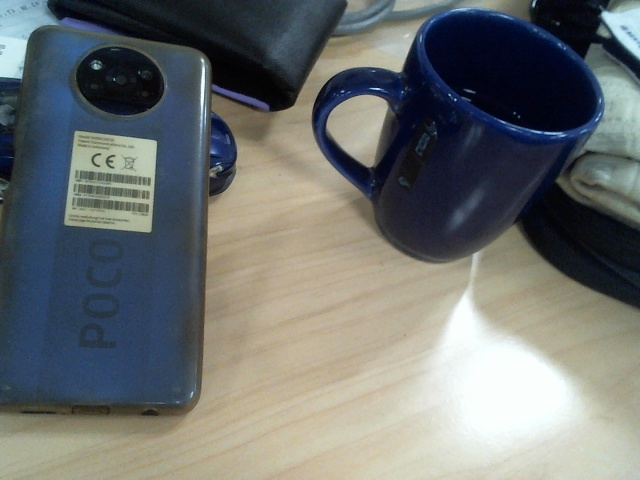handphone: (1, 24, 211, 416)
